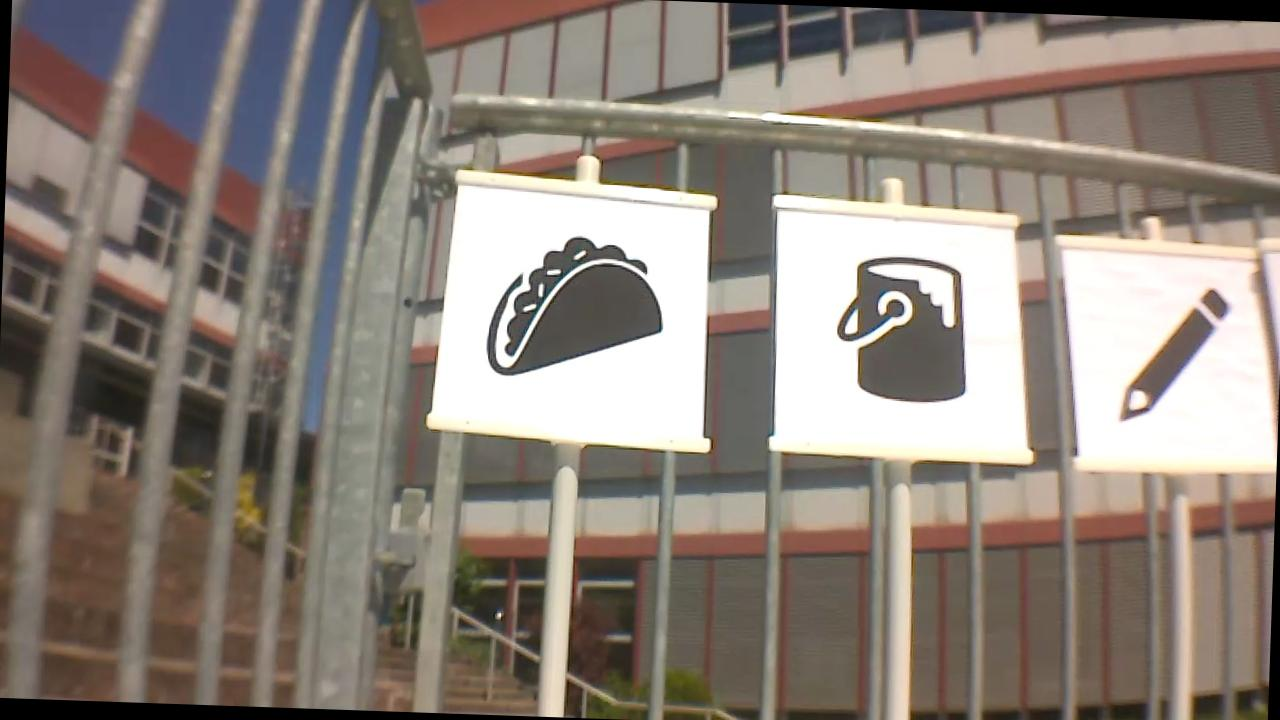bucket: (837, 247, 976, 406)
pencil: (1112, 274, 1235, 430)
taco: (482, 226, 671, 380)
